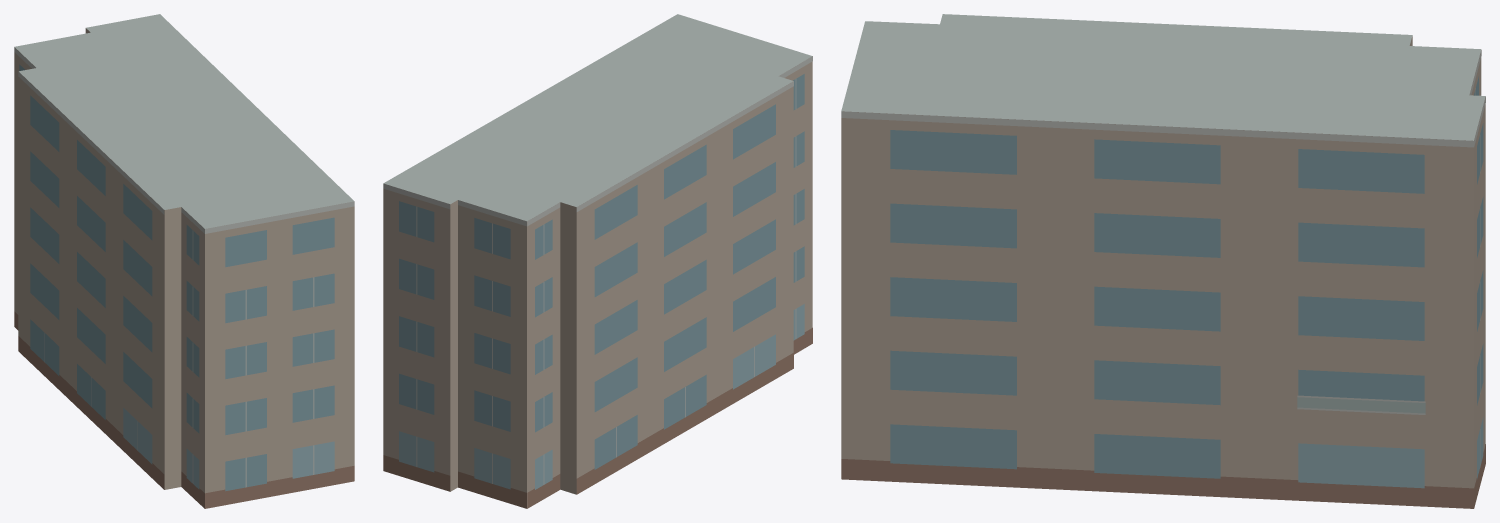
Rendered from survey-upis-32973586.glb.
The picture shows the model from 3 angles, left to right: view 1: azimuth 30°, elevation 25°; view 2: azimuth 150°, elevation 25°; view 3: azimuth 270°, elevation 25°; orthographic projection. The views are drawn at different scales.
Visible parts, largest first — view 1: survey-upis-32973586.tmp; view 2: survey-upis-32973586.tmp; view 3: survey-upis-32973586.tmp.
Boxes of the visible parts, x1=… form: survey-upis-32973586.tmp: x1=14, y1=14, x2=354, y2=508; survey-upis-32973586.tmp: x1=383, y1=14, x2=812, y2=508; survey-upis-32973586.tmp: x1=841, y1=14, x2=1485, y2=508.
Size of the model in its own units: 10.02 by 13.55 by 21.52.
